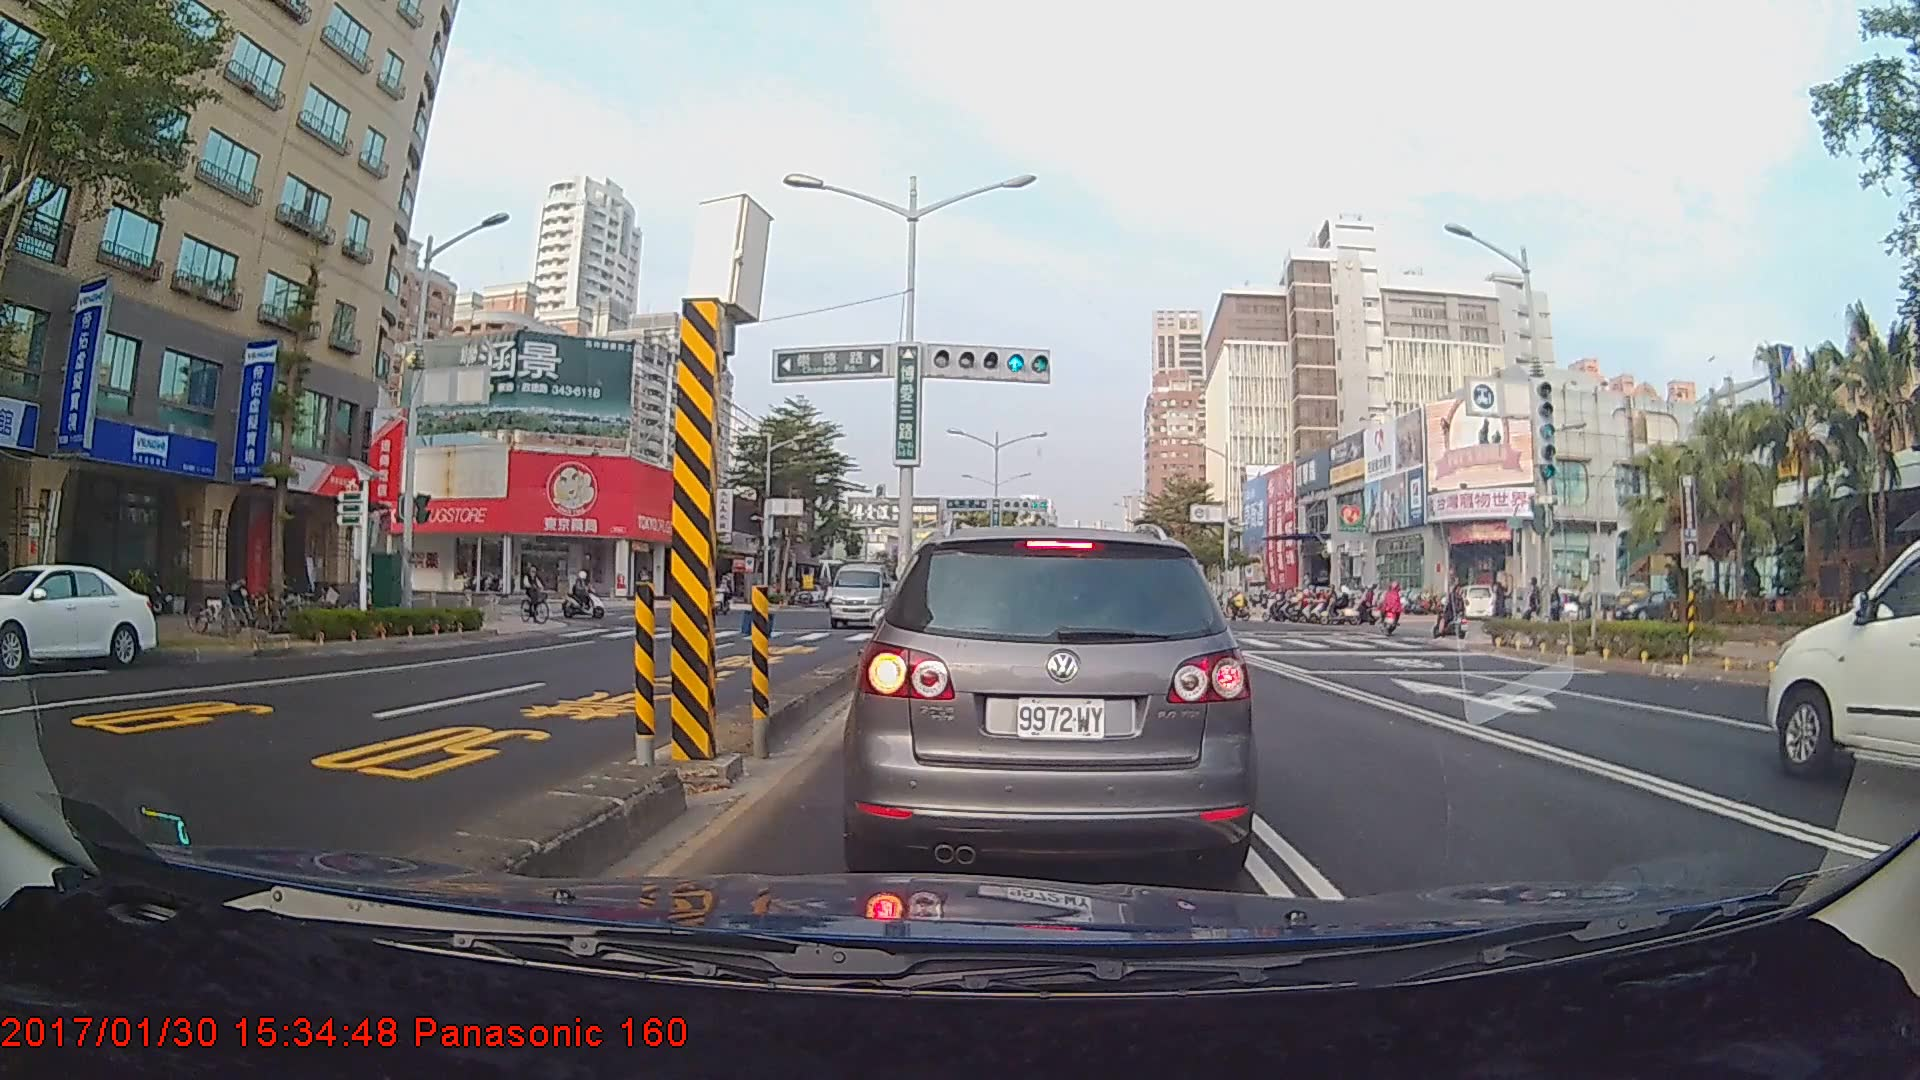pedestrian: (1492, 579, 1515, 637)
rider: (563, 568, 615, 625), (518, 559, 559, 629), (1436, 582, 1473, 646), (1383, 580, 1410, 640)
vehicle: (853, 523, 1249, 884), (1765, 518, 1920, 798), (0, 561, 158, 671), (826, 554, 892, 628)
